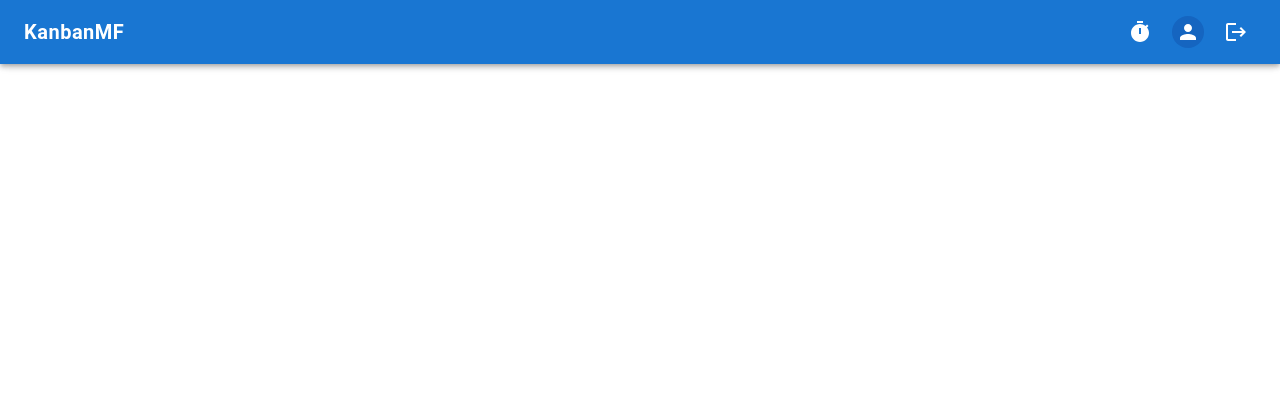
Test: MainAppBar › a profile that fails to load (6G) › keeps the page after a server error, and waits for the profile before the name and language dialogs
Click the button named "User profile" at (1188, 32), box [1168,16,1208,48]
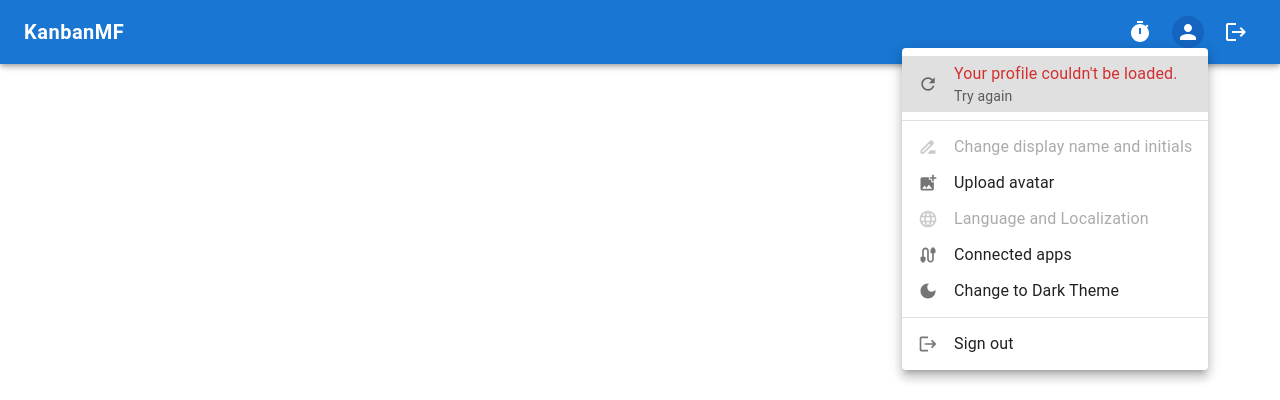
Expected: the text with test id "address" reads "/boards/board-1?card=card-7", [0,18,214,37]
Now the menu item "Your profile couldn't be loaded. Try again" is shown, box [902,56,1208,112]
